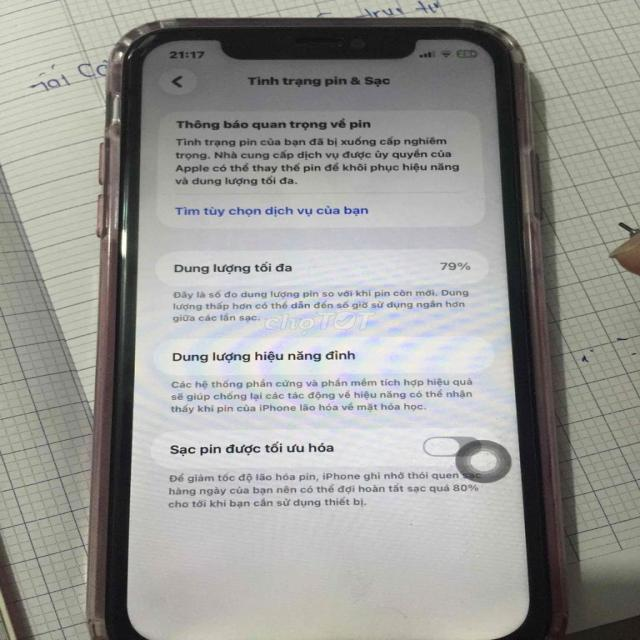gen_11: (85, 15, 568, 640)
